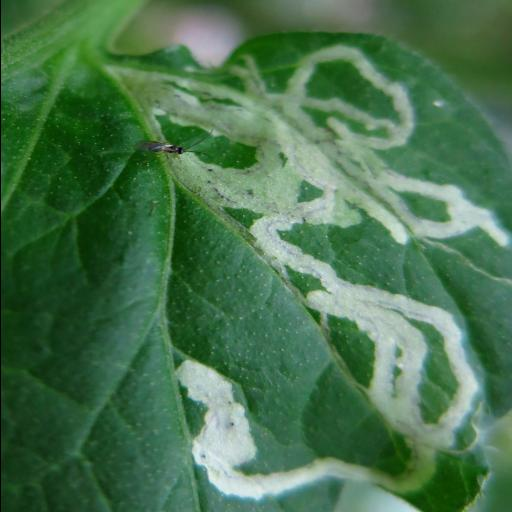Leaf Miner: (100, 33, 512, 512)
